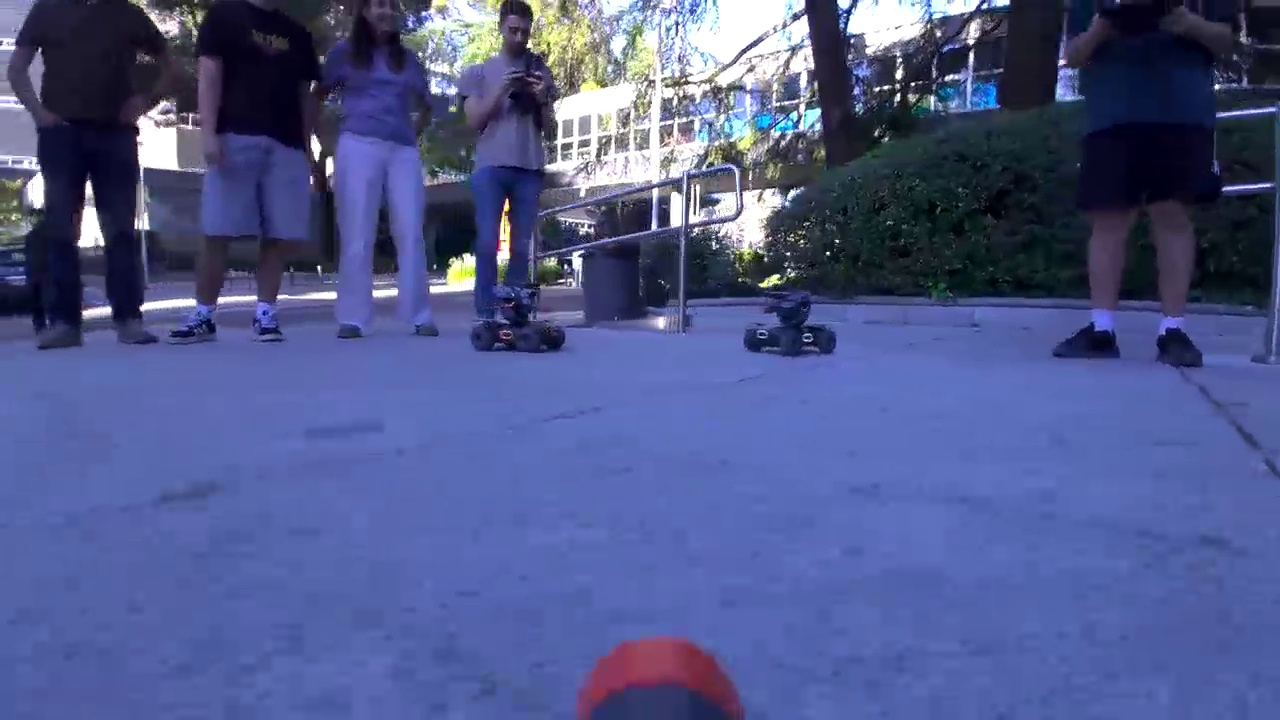robot: (736, 286, 838, 367), (477, 283, 574, 365)
